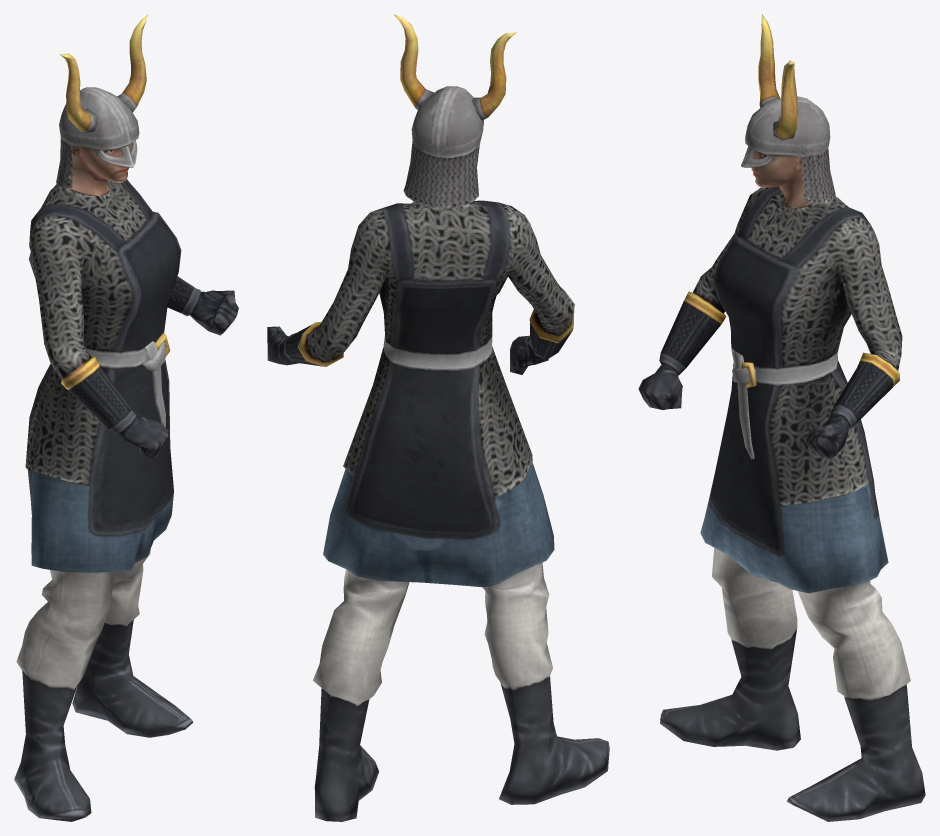
The model's file is body-female-base.glb.
3 renders of one model, left to right at view 1: azimuth 30°, elevation 25°; view 2: azimuth 150°, elevation 25°; view 3: azimuth 270°, elevation 25°, orthographic. The views are drawn at different scales.
Size of the model in its own units: 0.8815 by 2.36 by 0.8332.
1 material, 1 textured.
